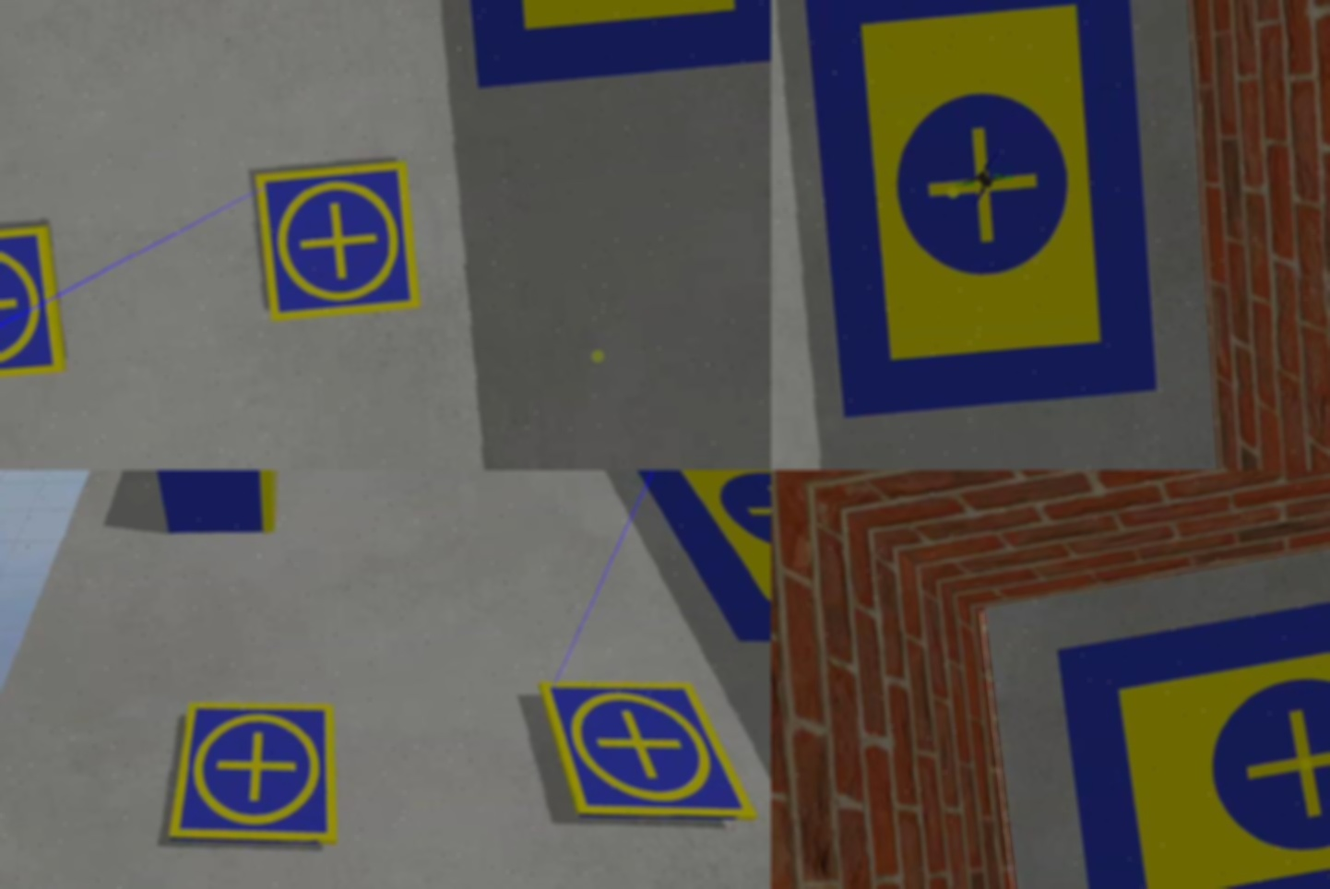large_base: (803, 1, 1161, 422), (1053, 571, 1330, 889), (612, 471, 771, 660), (450, 1, 771, 91)
small_base: (540, 663, 760, 838), (159, 694, 343, 854), (255, 163, 425, 326), (1, 221, 69, 384)
